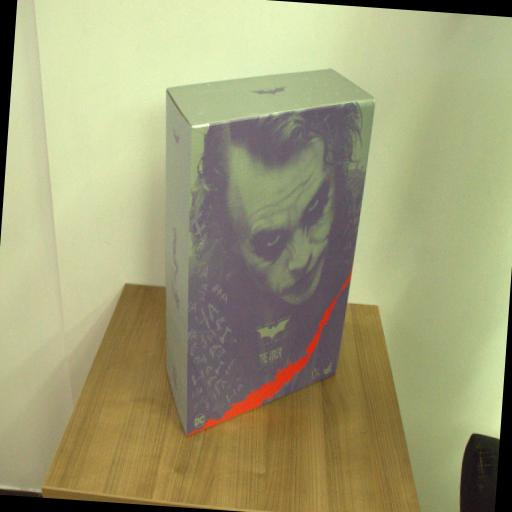Joker: (142, 56, 380, 448)
